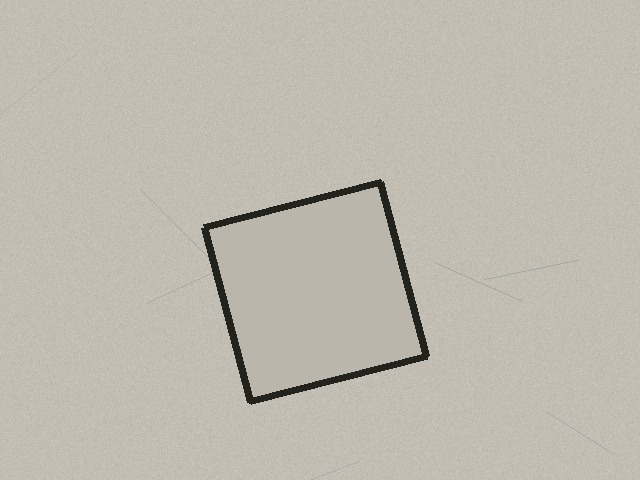parking_area: (204, 182, 426, 401)
